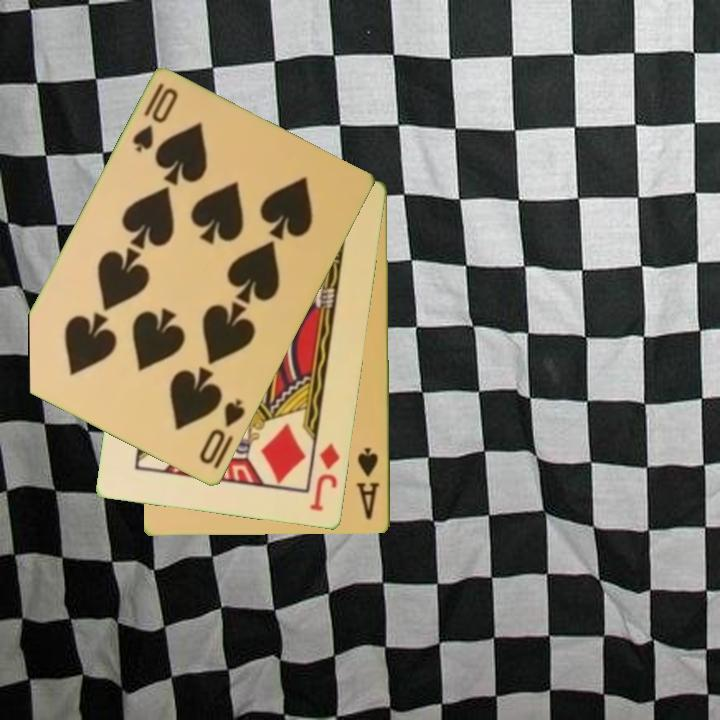10s: (129, 80, 181, 156), (196, 396, 249, 468)
As: (352, 445, 383, 523)
Jd: (307, 440, 343, 515)
